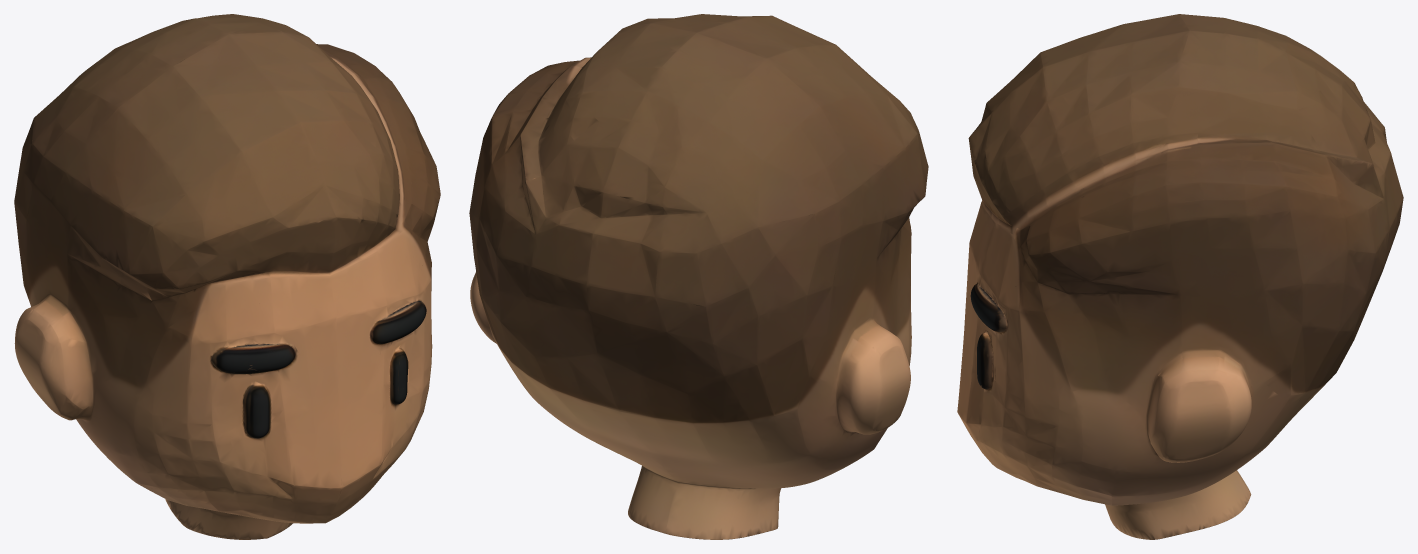
The picture shows the model from 3 angles, left to right: view 1: azimuth 30°, elevation 25°; view 2: azimuth 150°, elevation 25°; view 3: azimuth 270°, elevation 25°; orthographic projection. The views are drawn at different scales.
Parts seen in each view (by area): view 1: node_0; view 2: node_0; view 3: node_0.
Part boxes in pixels (x1,y1,x2,y2): node_0: [14, 14, 440, 539]; node_0: [469, 14, 928, 539]; node_0: [957, 14, 1403, 539].
Bounding box in the file's own units: 0.9984 × 1.17 × 0.964.
Materials: 1 (1 with a texture image).
